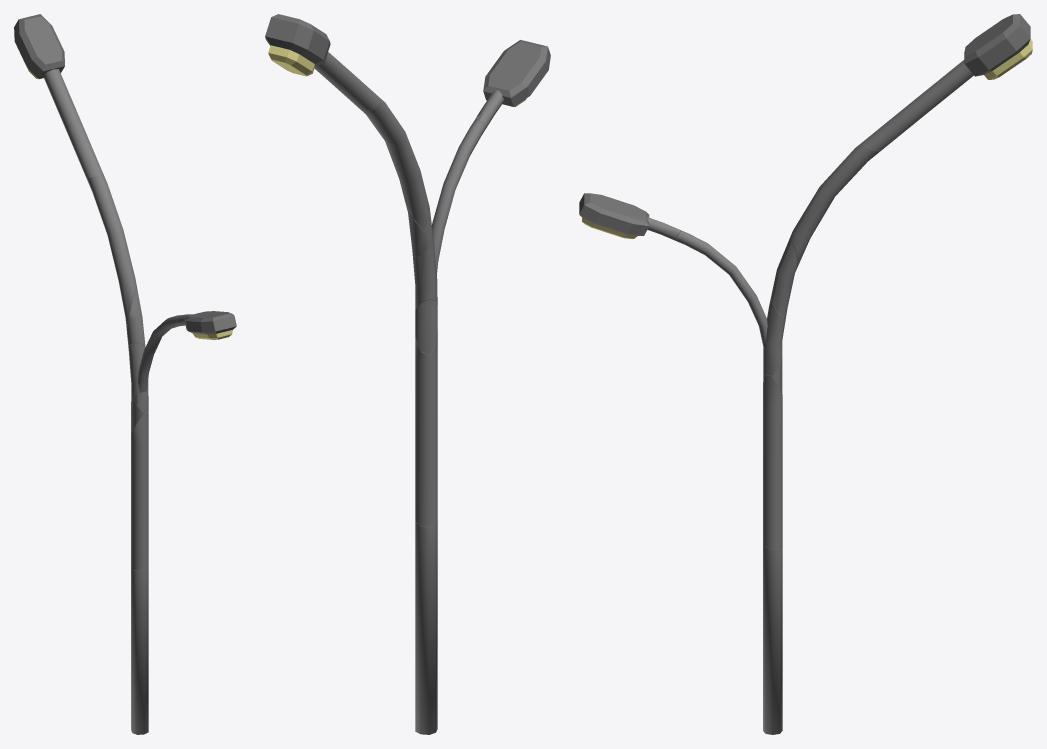
Rendered from poste.fbx.
The picture shows the model from 3 angles, left to right: view 1: azimuth 30°, elevation 25°; view 2: azimuth 150°, elevation 25°; view 3: azimuth 270°, elevation 25°; orthographic projection. The views are drawn at different scales.
Visible parts, largest first — view 1: Cube_cell.005, Cube_cell.013, Cube_cell.003, Cube_cell.006, Cube_cell.004, Cube_cell.001, Cube_cell.009, Cube_cell.010, Cube_cell.011; view 2: Cube_cell.005, Cube_cell.013, Cube_cell.003, Cube_cell.006, Cube_cell.001, Cube_cell.009, Cube_cell.004, Cube_cell.010, Cube_cell.014, Cube_cell.011, Cube_cell.002; view 3: Cube_cell.005, Cube_cell.013, Cube_cell.006, Cube_cell.003, Cube_cell.004, Cube_cell.001, Cube_cell.009, Cube_cell.010, Cube_cell.011.
Boxes of the visible parts, x1=… form: Cube_cell.005: x1=131, y1=566, x2=148, y2=734; Cube_cell.013: x1=131, y1=412, x2=148, y2=570; Cube_cell.003: x1=86, y1=175, x2=136, y2=330; Cube_cell.006: x1=14, y1=14, x2=64, y2=78; Cube_cell.004: x1=44, y1=69, x2=103, y2=177; Cube_cell.001: x1=184, y1=311, x2=236, y2=339; Cube_cell.009: x1=138, y1=315, x2=182, y2=392; Cube_cell.010: x1=128, y1=342, x2=148, y2=412; Cube_cell.011: x1=127, y1=287, x2=145, y2=347; Cube_cell.005: x1=415, y1=519, x2=437, y2=734; Cube_cell.013: x1=415, y1=329, x2=437, y2=527; Cube_cell.003: x1=359, y1=98, x2=429, y2=231; Cube_cell.006: x1=265, y1=14, x2=330, y2=76; Cube_cell.001: x1=483, y1=40, x2=550, y2=106; Cube_cell.009: x1=432, y1=119, x2=485, y2=274; Cube_cell.004: x1=314, y1=52, x2=379, y2=111; Cube_cell.010: x1=413, y1=234, x2=437, y2=309; Cube_cell.014: x1=415, y1=299, x2=437, y2=355; Cube_cell.011: x1=405, y1=201, x2=432, y2=256; Cube_cell.002: x1=475, y1=90, x2=503, y2=128; Cube_cell.005: x1=763, y1=545, x2=782, y2=734; Cube_cell.013: x1=763, y1=371, x2=782, y2=549; Cube_cell.006: x1=964, y1=14, x2=1032, y2=79; Cube_cell.003: x1=786, y1=141, x2=879, y2=275; Cube_cell.004: x1=863, y1=60, x2=973, y2=151; Cube_cell.001: x1=579, y1=193, x2=649, y2=238; Cube_cell.009: x1=674, y1=230, x2=767, y2=348; Cube_cell.010: x1=763, y1=296, x2=786, y2=375; Cube_cell.011: x1=771, y1=244, x2=797, y2=316.
Size of the model in its own units: 42.3 by 783 by 452.
